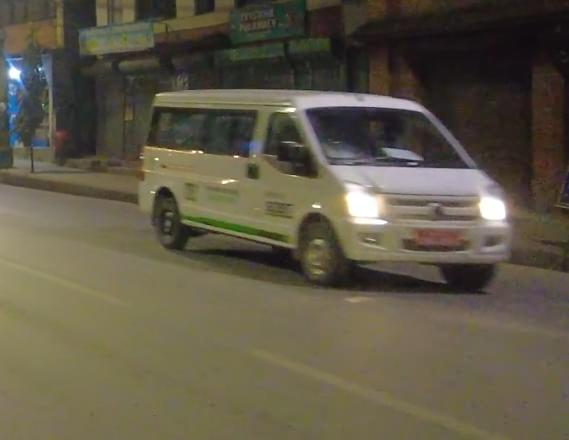micro_bus: (139, 85, 513, 298)
